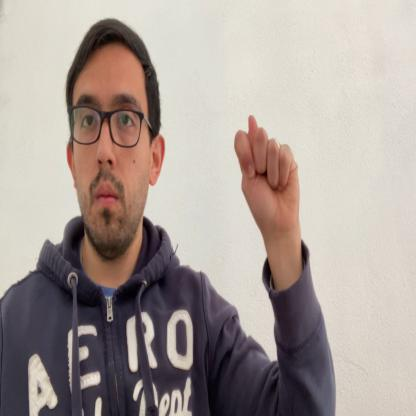T: (234, 112, 301, 240)
